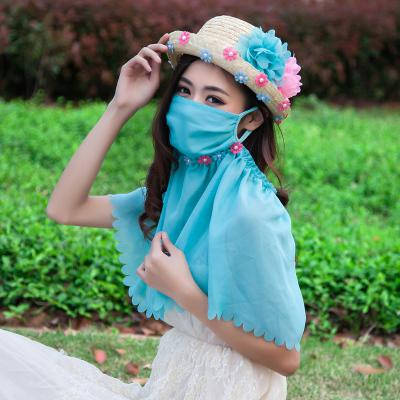OK: (165, 74, 250, 159)
